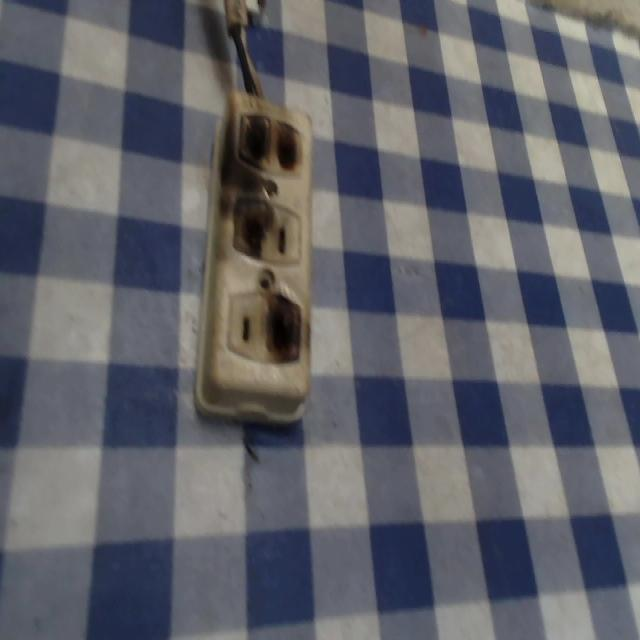-: (233, 108, 306, 176), (261, 288, 302, 367), (228, 192, 274, 261)
